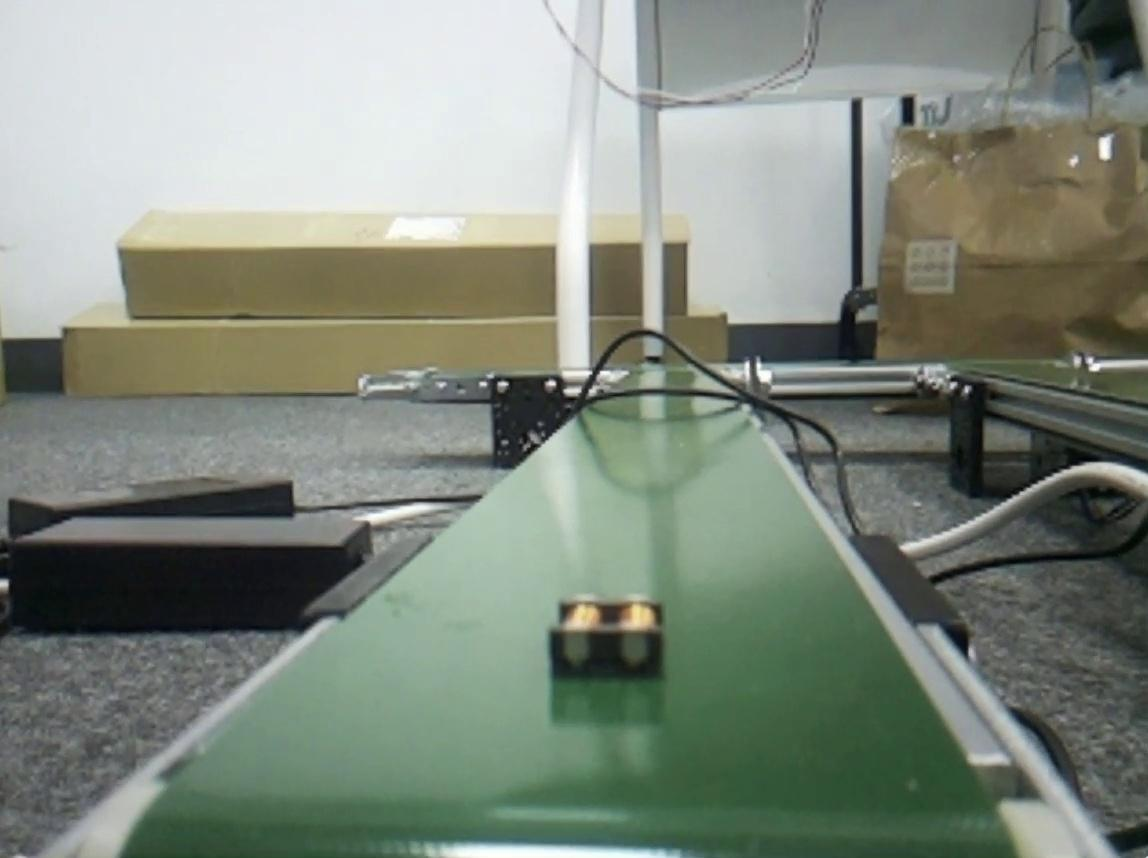inductor: (558, 600, 663, 676)
